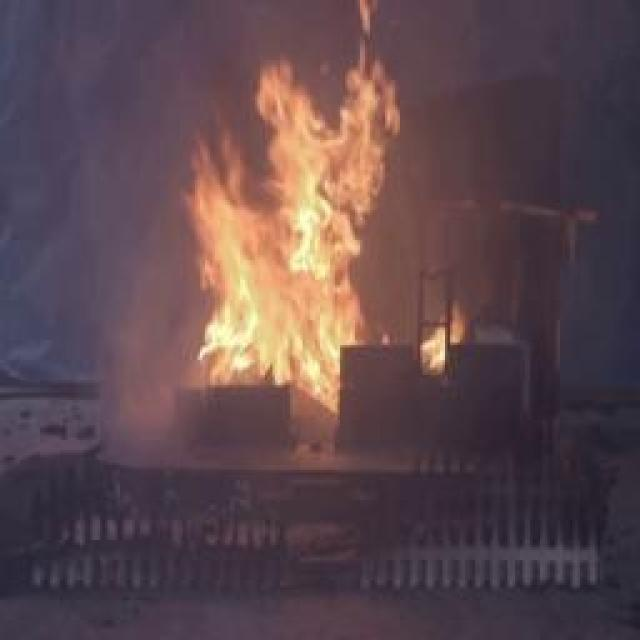fire: (155, 0, 400, 430)
